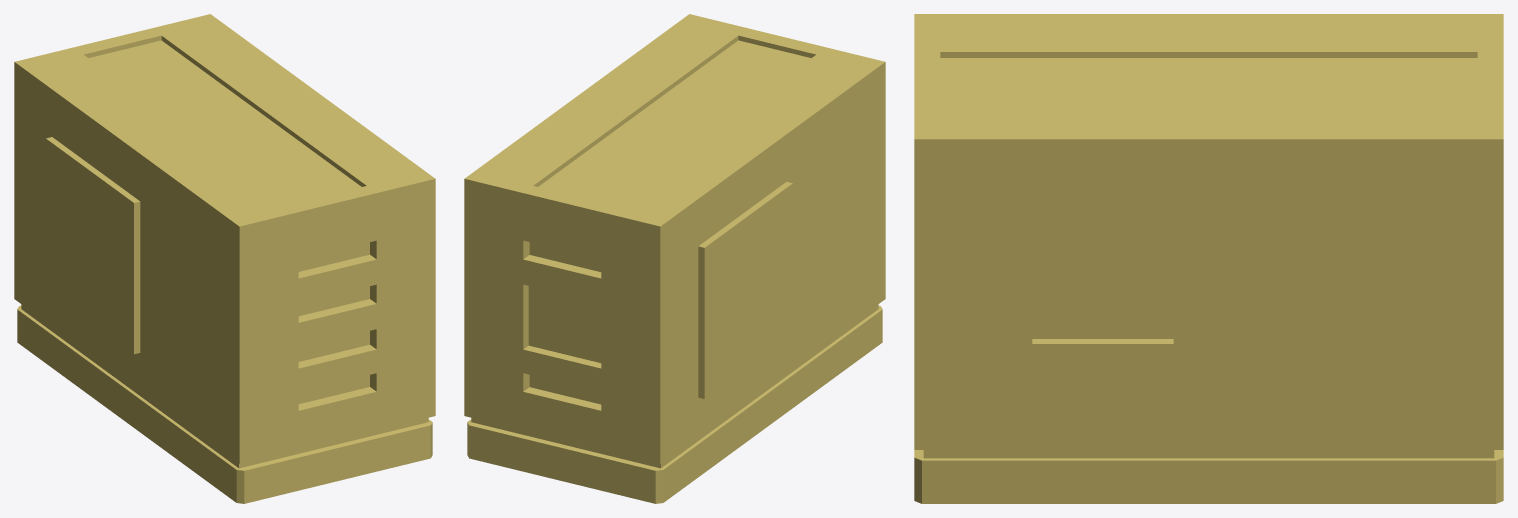
File: Gerador_A.fbx
The picture shows the model from 3 angles, left to right: view 1: azimuth 30°, elevation 25°; view 2: azimuth 150°, elevation 25°; view 3: azimuth 270°, elevation 25°; orthographic projection. The views are drawn at different scales.
Parts seen in each view (by area): view 1: Gerador_Grande; view 2: Gerador_Grande; view 3: Gerador_Grande.
Part boxes in pixels (x1,y1,x2,y2): Gerador_Grande: (14,14,435,503); Gerador_Grande: (464,14,885,503); Gerador_Grande: (914,14,1503,503).
Bounding box in the file's own units: 9.03 × 11.88 × 17.39.
